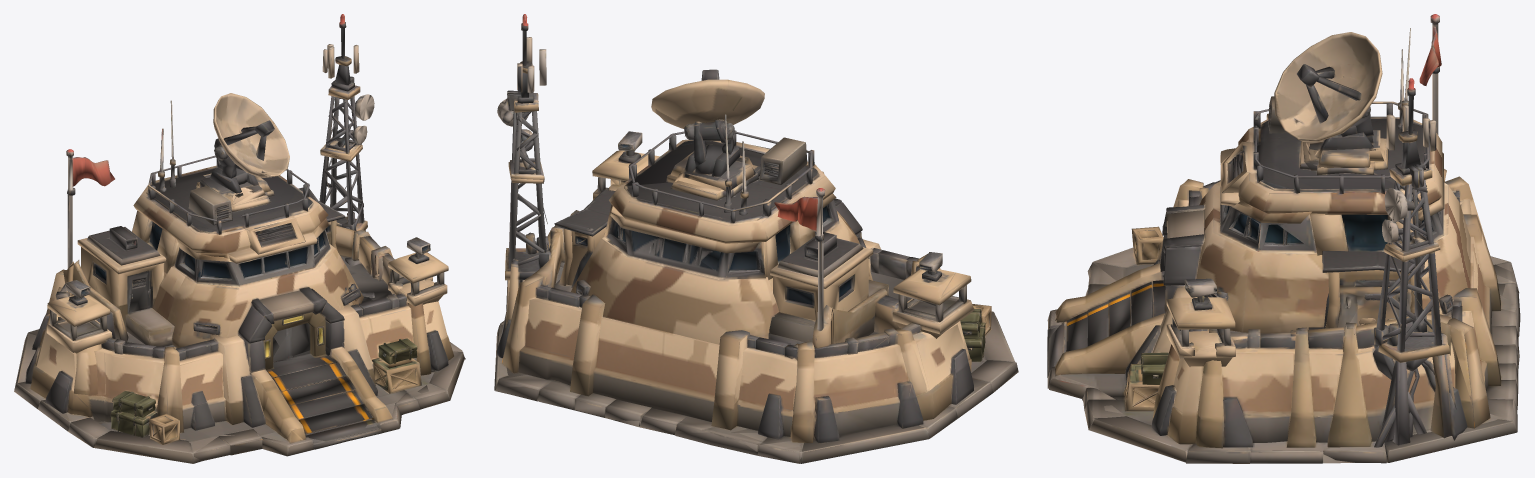
The model's file is sandforge_feldkommando_meshy.glb.
The picture shows the model from 3 angles, left to right: view 1: azimuth 30°, elevation 25°; view 2: azimuth 150°, elevation 25°; view 3: azimuth 270°, elevation 25°; orthographic projection. The views are drawn at different scales.
Size of the model in its own units: 0.9556 by 0.7065 by 0.8306.
Materials: 1 (1 with a texture image).
